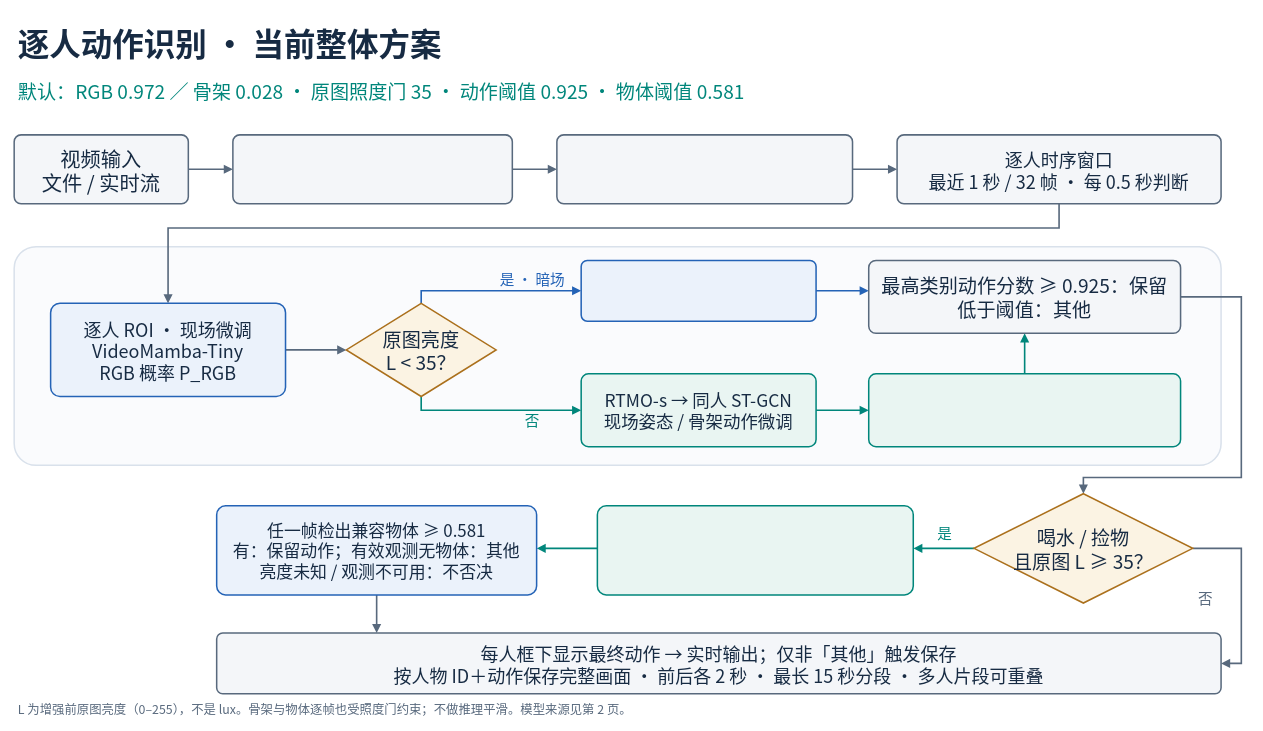
Image size: 1263x731. Some labels were removed from this diagram. Each missing label, with the box of its shape:
YOLO26m 人体检测＋跟踪 现场微调 · 每人独立 ID: (556, 134, 853, 204)
保留增强前亮度 L → 增强 Retinexformer · 公开预训练 处理长边 720: (232, 134, 513, 204)
只用本人的 RGB 跳过骨架及物体先验: (580, 259, 816, 322)
同人融合 0.972 P_RGB + 0.028 P_pose 无合格骨架：soft 投「其他」票: (868, 373, 1181, 447)
现场七类 YOLO26m · 独立物体模型 720 增强图 → 同人周围 / 局部裁剪 窗口均匀取 5 帧: (596, 505, 914, 595)
